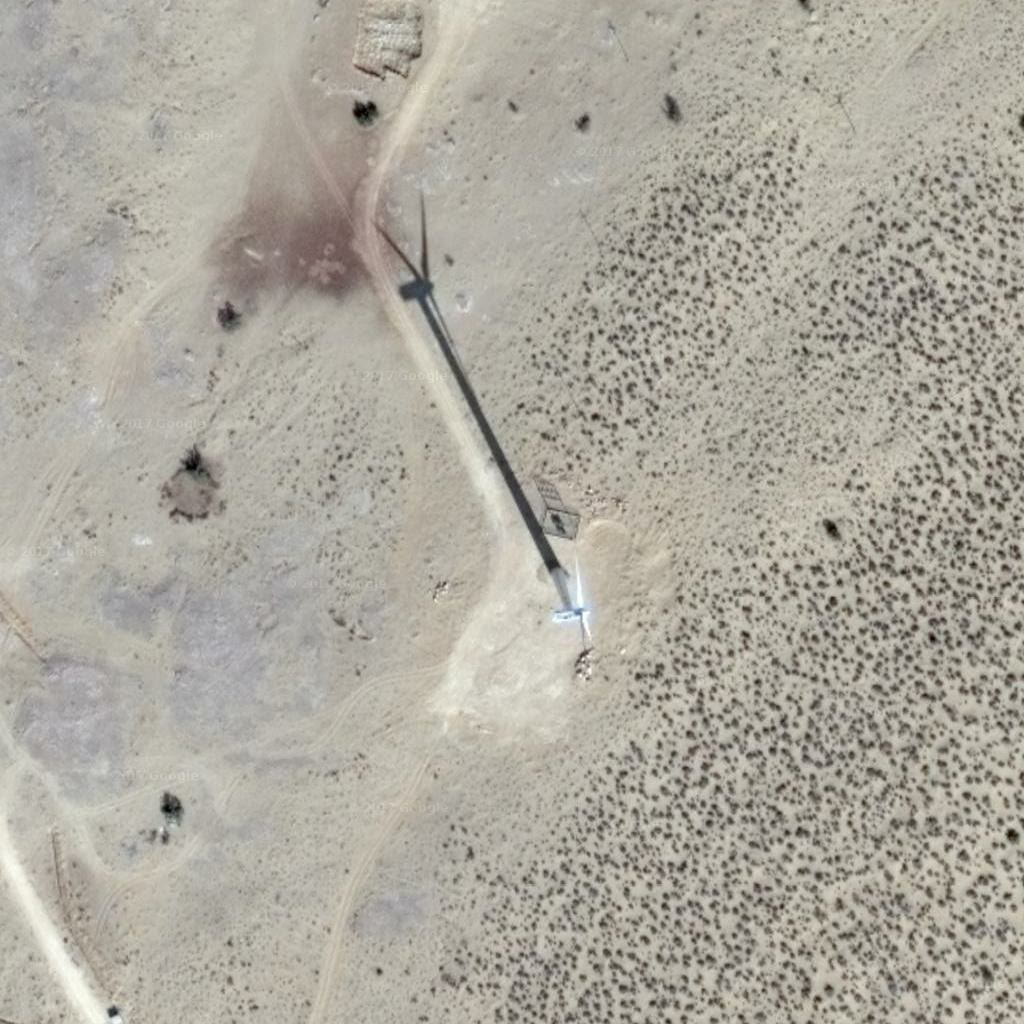Windmill: (366, 195, 561, 567)
